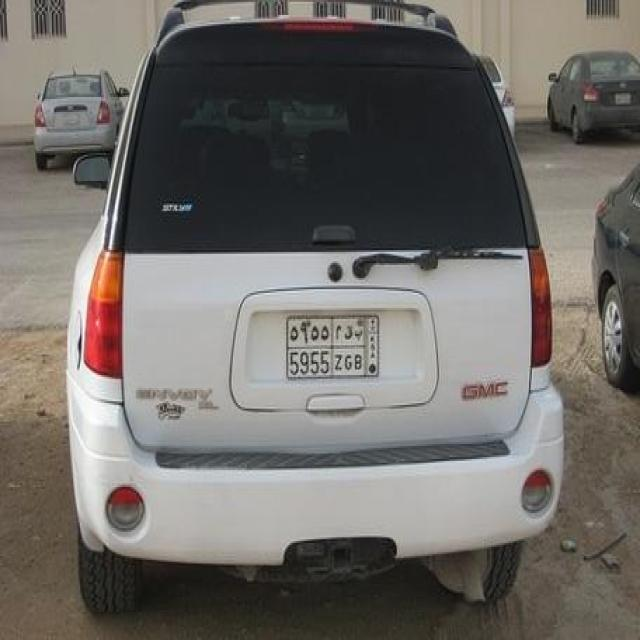license_plate: (274, 298, 384, 392), (50, 100, 86, 130), (605, 80, 636, 112)
